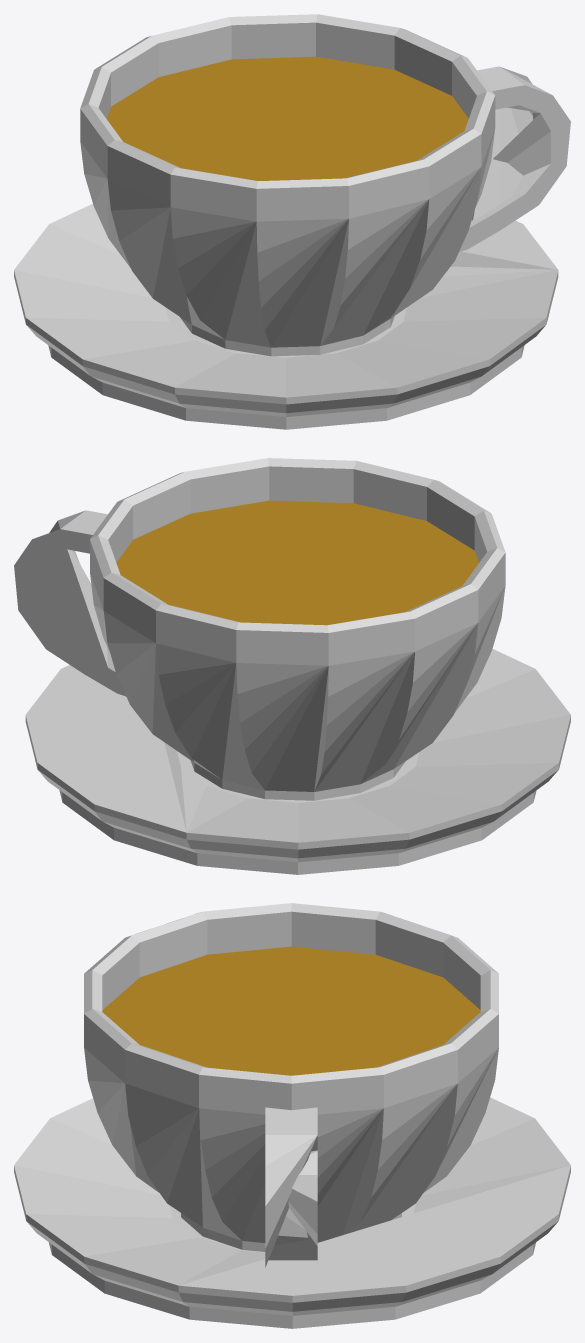
The model's file is Coffee.fbx.
3 renders of one model, top to bottom at view 1: azimuth 30°, elevation 25°; view 2: azimuth 150°, elevation 25°; view 3: azimuth 270°, elevation 25°, orthographic. The views are drawn at different scales.
Visible parts, largest first — view 1: Coffee; view 2: Coffee; view 3: Coffee.
Boxes of the visible parts, x1,y1,x2,y2 form: Coffee: [14, 14, 570, 429]; Coffee: [14, 458, 570, 874]; Coffee: [14, 903, 570, 1328].
Size of the model in its own units: 25.46 by 11.01 by 23.85.
